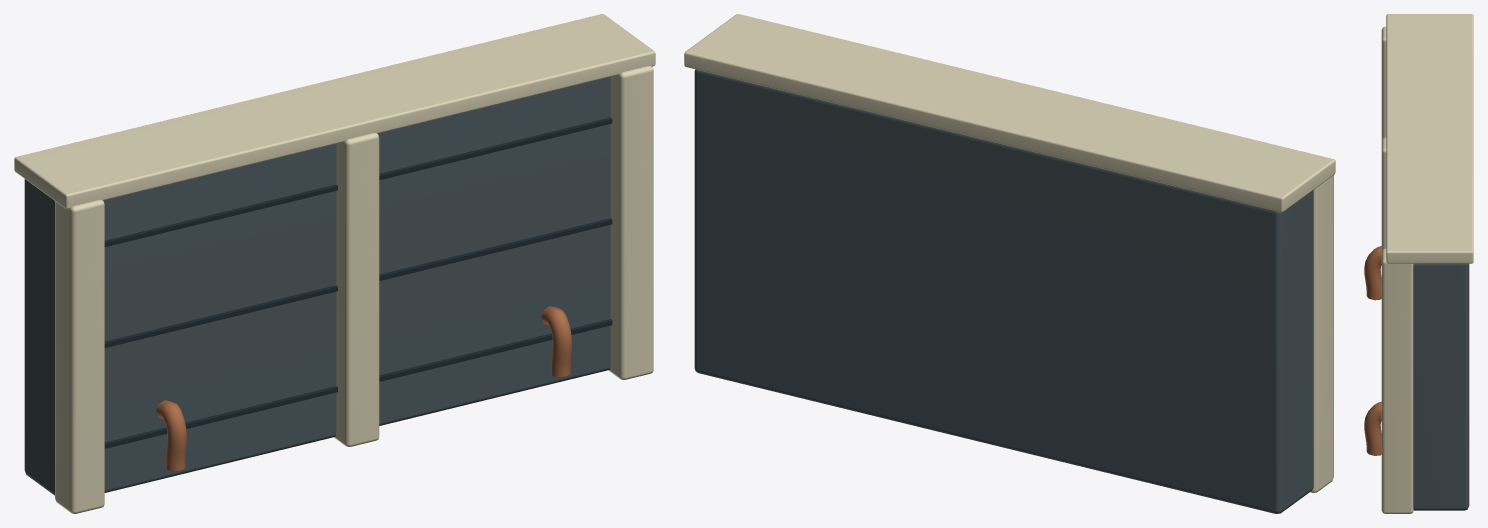
Rendered from SM_RainRetainingWall.glb.
The picture shows the model from 3 angles, left to right: view 1: azimuth 30°, elevation 25°; view 2: azimuth 150°, elevation 25°; view 3: azimuth 270°, elevation 25°; orthographic projection. The views are drawn at different scales.
Visible parts, largest first — view 1: SM_RainRetainingWall; view 2: SM_RainRetainingWall; view 3: SM_RainRetainingWall.
Boxes of the visible parts, <box> form: SM_RainRetainingWall: <box>14,14,655,513</box>; SM_RainRetainingWall: <box>684,14,1335,513</box>; SM_RainRetainingWall: <box>1364,14,1473,513</box>.
Bounding box in the file's own units: 12.25 × 6.35 × 2.38.
